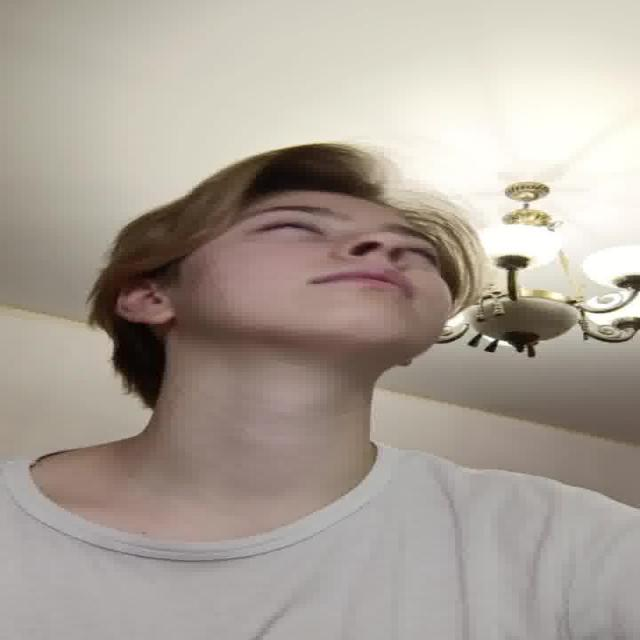earlobe: (129, 310, 174, 326), (393, 358, 418, 369)
eye: (257, 220, 325, 237), (401, 245, 442, 261)
nose: (336, 250, 409, 269)
wholeear: (112, 284, 174, 326)
